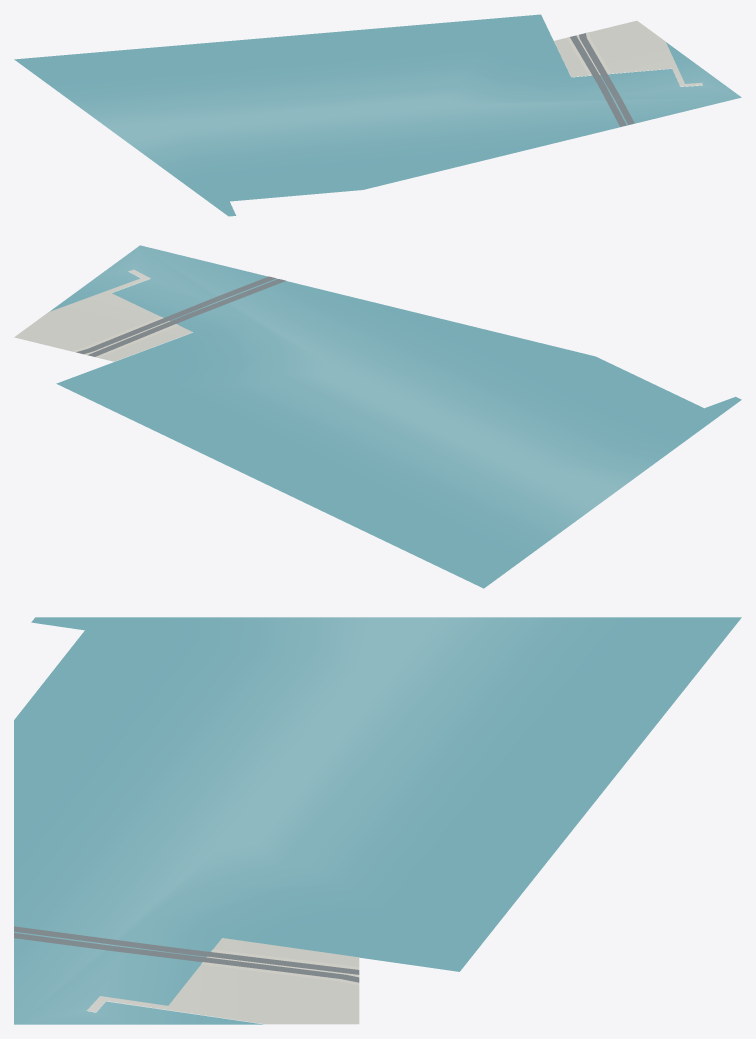
3 renders of one model, top to bottom at view 1: azimuth 30°, elevation 25°; view 2: azimuth 150°, elevation 25°; view 3: azimuth 270°, elevation 25°, orthographic. The views are drawn at different scales.
Visible parts, largest first — view 1: city; view 2: city; view 3: city.
Boxes of the visible parts, box(x1,y1,x2,y2) form: city: box(14, 14, 741, 216); city: box(14, 245, 741, 588); city: box(14, 617, 741, 1024).
Size of the model in its own units: 500 by 0.4 by 378.
